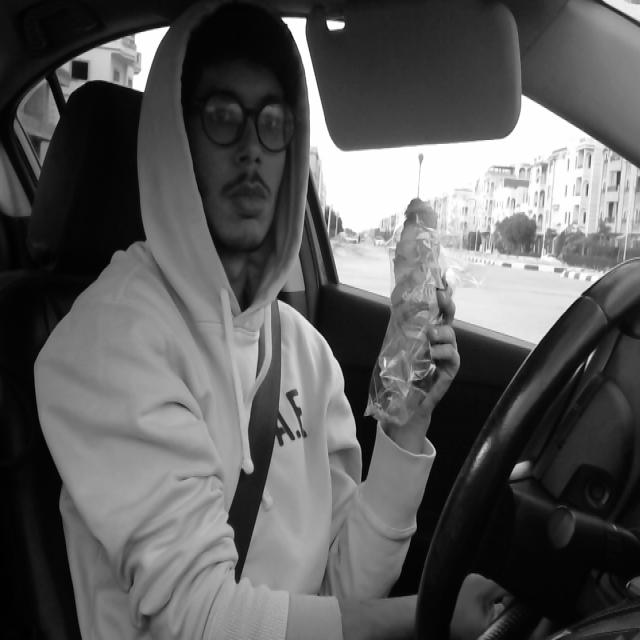eating: (390, 193, 450, 368)
